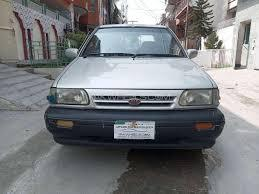windshield: (76, 24, 191, 59)
